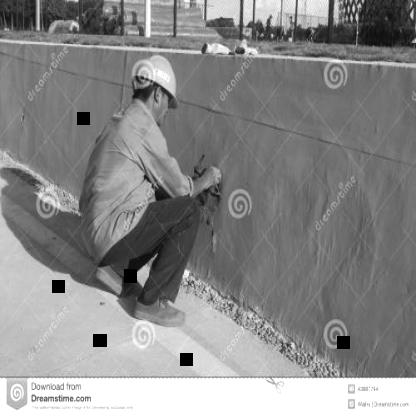helmet: (132, 51, 180, 128)
